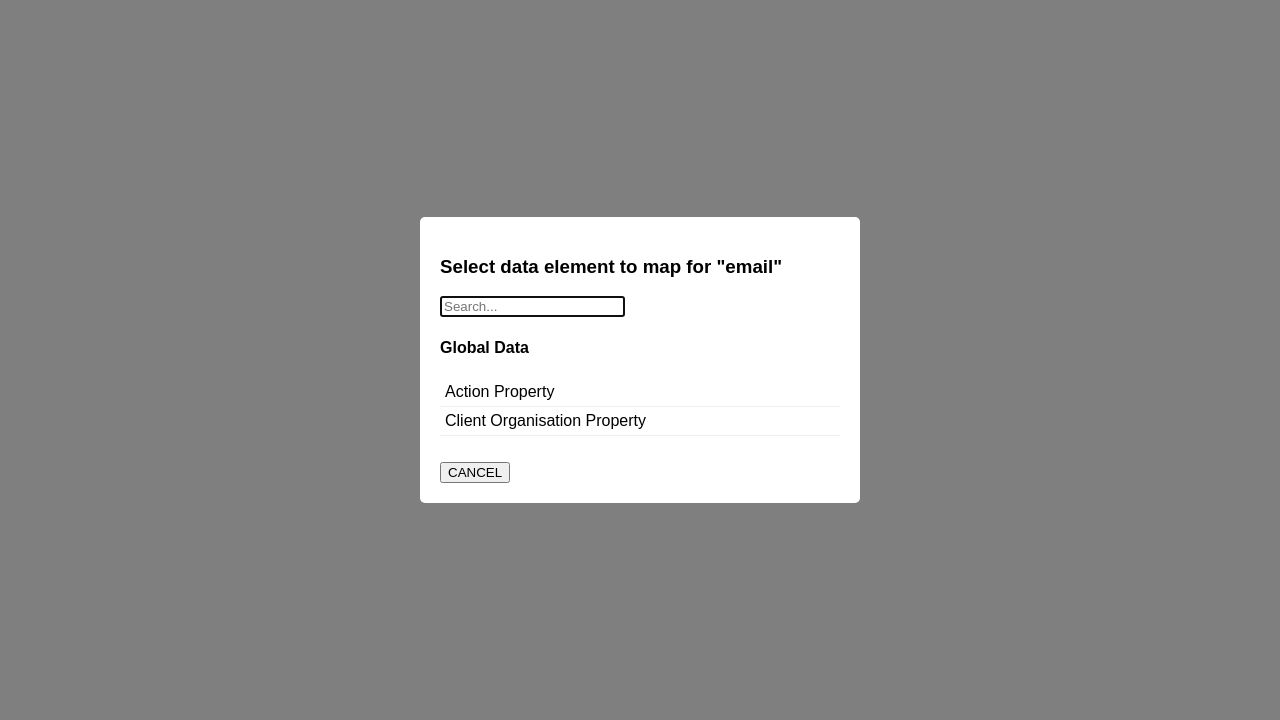
Test: MappingModal Global Fallback Message › displays a fallback message and does not render a global options list when no match is found
Note: Enter a search term that does not match any global options.
In the field with placeholder "Search...": (532,307) x1=440 y1=296 x2=625 y2=318, type "nonexistent"
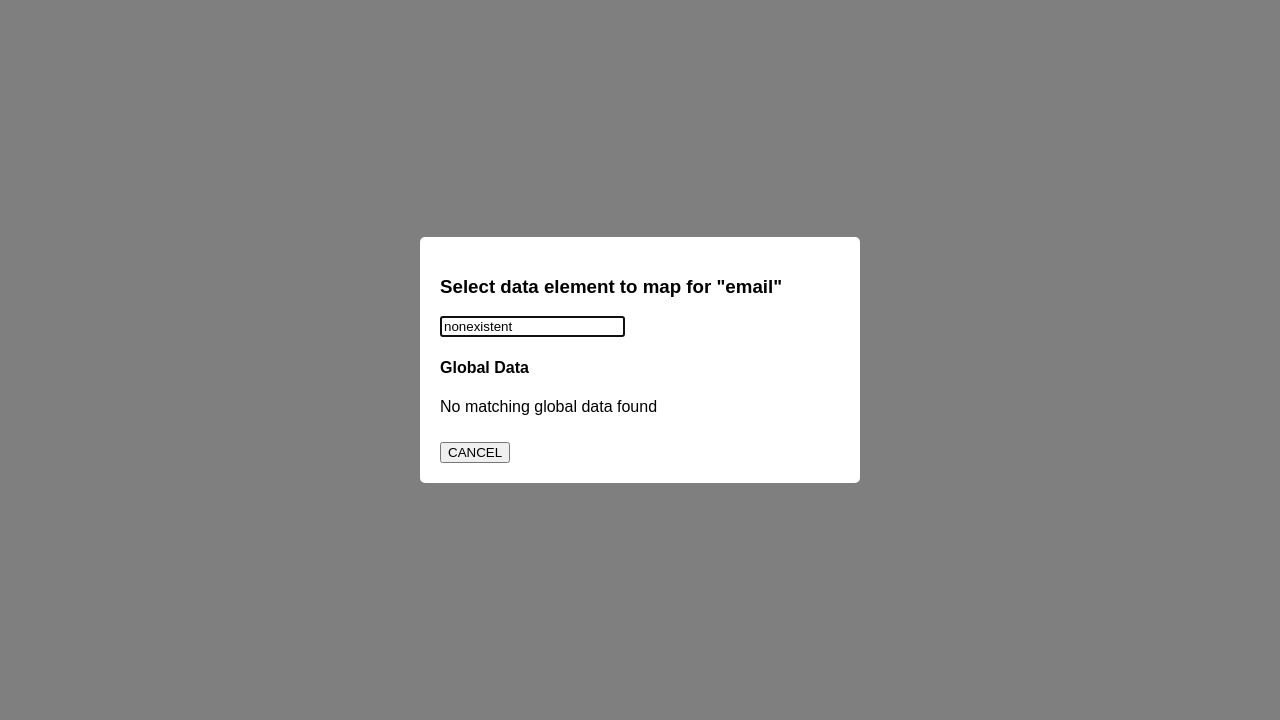
Expected: the heading "Global Data" is shown, x1=440 y1=359 x2=529 y2=376
Result: the list is gone
Result: the text "No matching global data found" is shown at x1=440 y1=398 x2=657 y2=415
